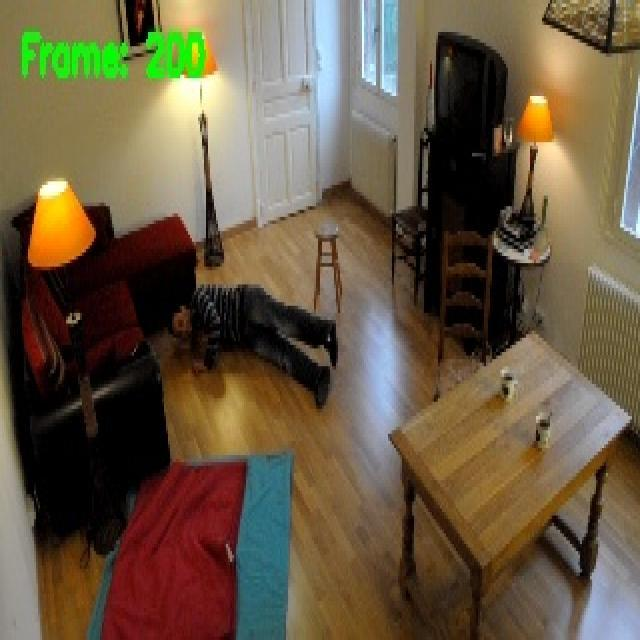fall: (163, 276, 342, 410)
